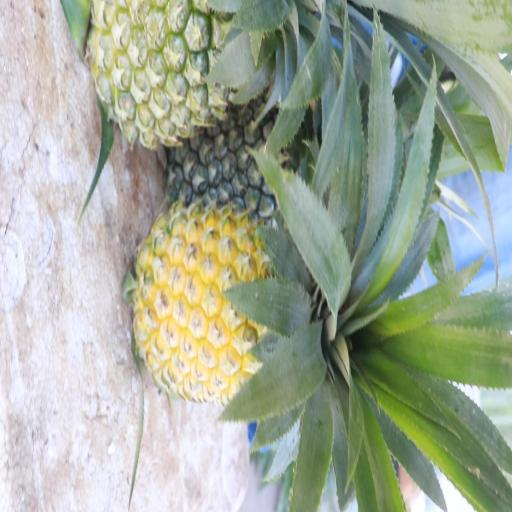------------------------------: (88, 0, 285, 139)
Pineapple - v8 v1: (132, 202, 344, 401)
